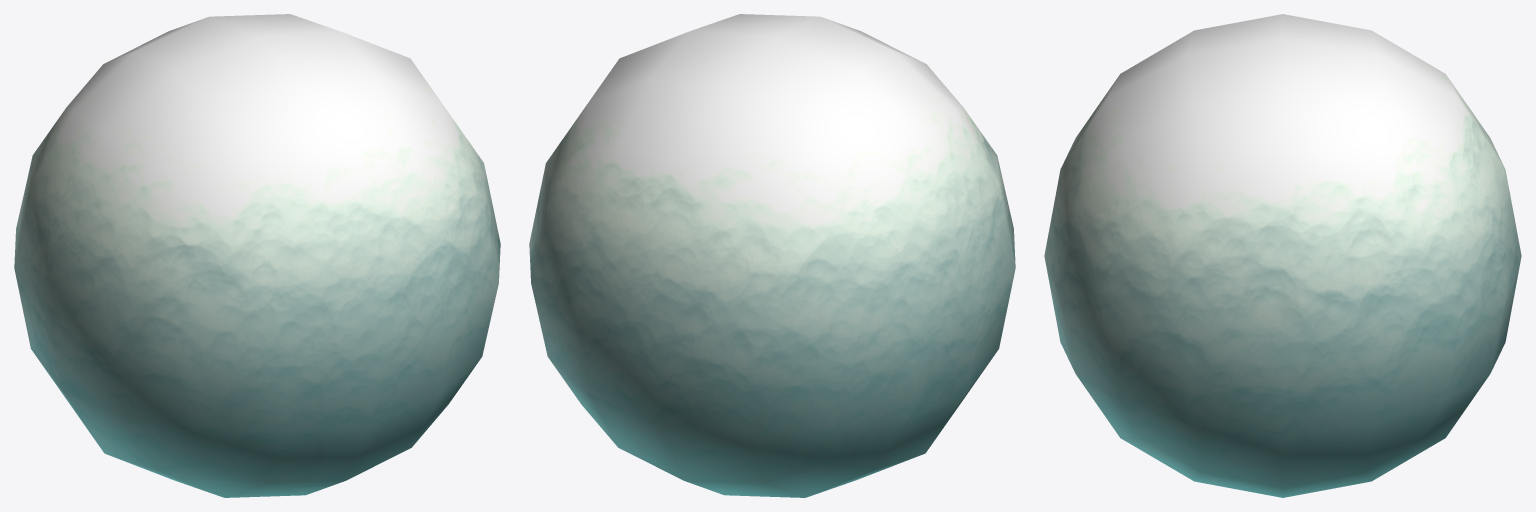
Rendered from Idle_Glutamate.fbx.
The picture shows the model from 3 angles, left to right: view 1: azimuth 30°, elevation 25°; view 2: azimuth 150°, elevation 25°; view 3: azimuth 270°, elevation 25°; orthographic projection.
Parts seen in each view (by area): view 1: Glutamate_SOLO; view 2: Glutamate_SOLO; view 3: Glutamate_SOLO.
Boxes of the visible parts, box(x1,y1,x2,y2) form: Glutamate_SOLO: box(14, 14, 500, 497); Glutamate_SOLO: box(529, 14, 1015, 497); Glutamate_SOLO: box(1044, 14, 1521, 497).
Size of the model in its own units: 6.65 by 6.65 by 6.65.
1 material, 1 textured.
